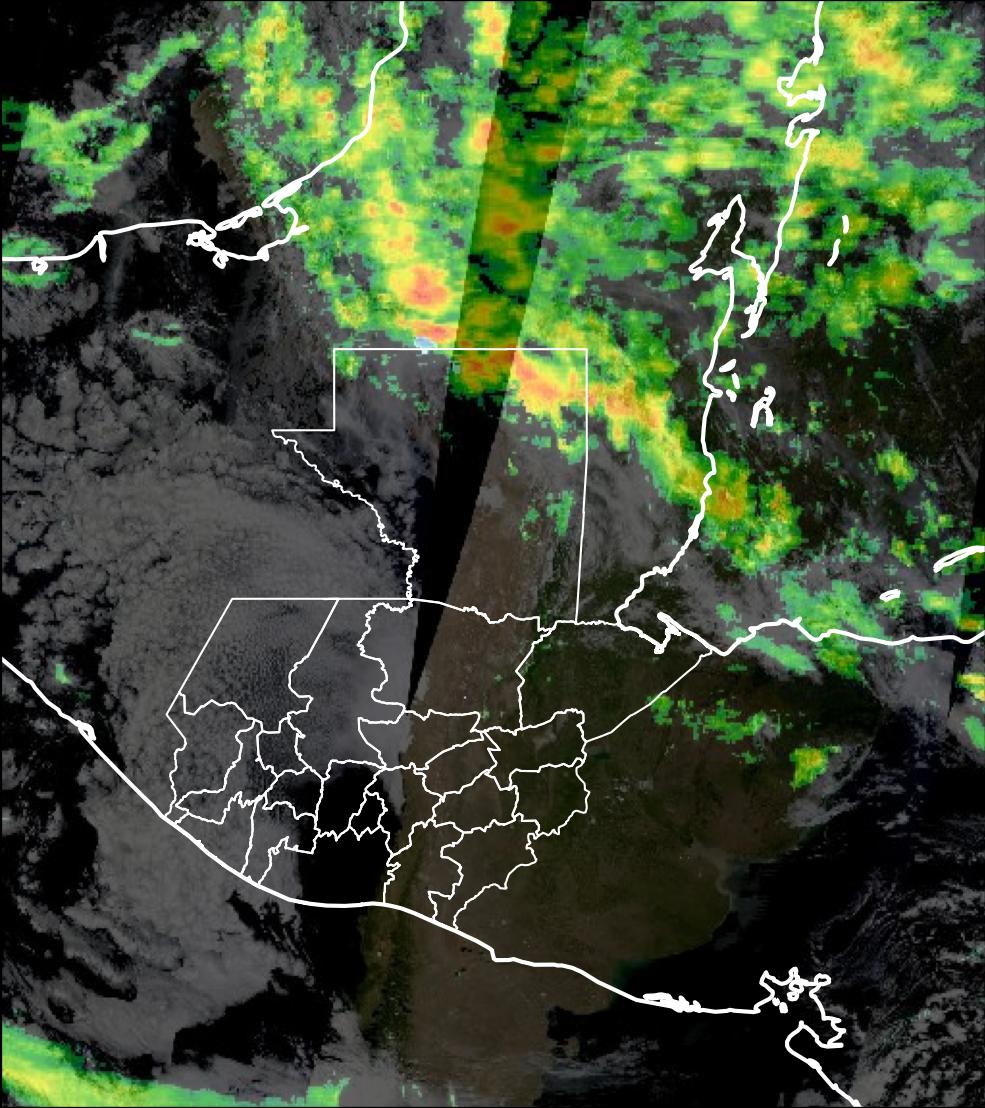precipitacion: (456, 351, 583, 421)
